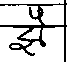ai_matra: (28, 5, 50, 25)
